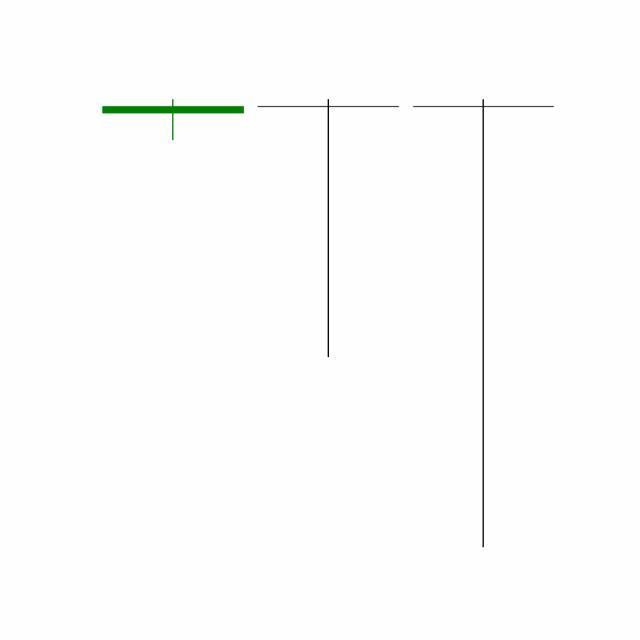Dragonfly Doji: (250, 96, 407, 361)
